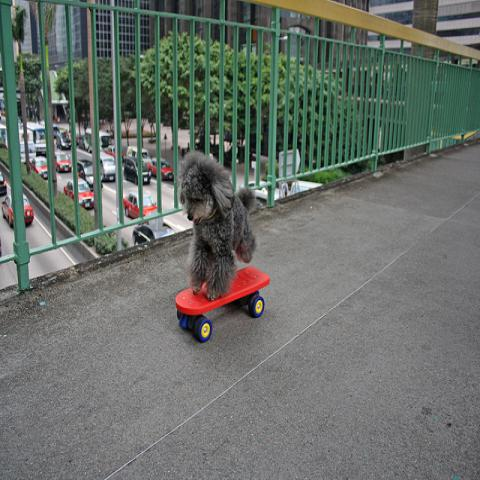bus: (84, 127, 112, 153), (32, 128, 46, 156)
car: (0, 100, 111, 197), (1, 193, 34, 229), (63, 176, 95, 211), (132, 222, 176, 246), (122, 190, 157, 219), (122, 156, 154, 184), (146, 157, 174, 181), (100, 151, 116, 182), (30, 155, 48, 178), (104, 145, 125, 163), (54, 153, 72, 172), (56, 133, 71, 150), (0, 165, 8, 194)
truck: (18, 123, 36, 164), (125, 146, 153, 166)
